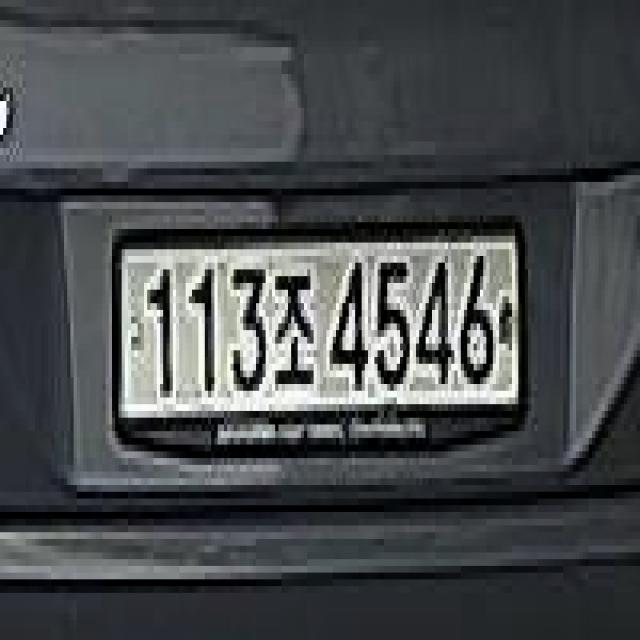illegal_plate: (104, 216, 536, 473)
